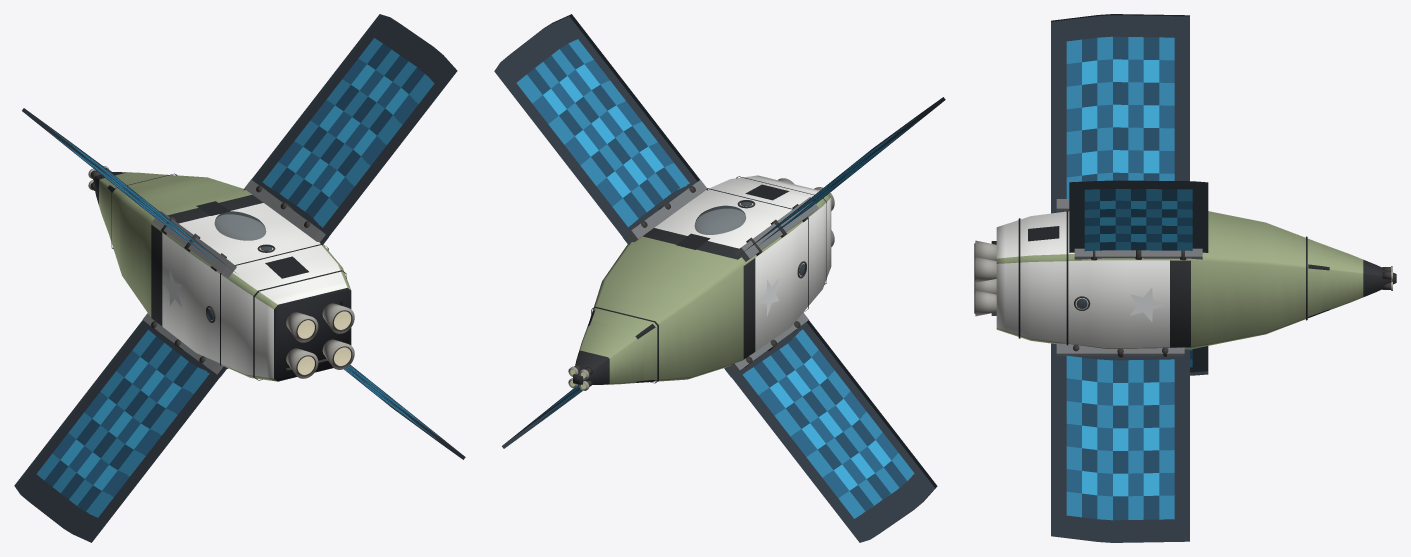
The model's file is Ship_Crosspanel_11.glb.
The picture shows the model from 3 angles, left to right: view 1: azimuth 30°, elevation 25°; view 2: azimuth 150°, elevation 25°; view 3: azimuth 270°, elevation 25°; orthographic projection. The views are drawn at different scales.
Parts seen in each view (by area): view 1: Fuselage_SquareBody, SolarPanelWing_TopRightRidge_RectangularPhotovoltaicGrid, SolarPanelWing_LowerLeftRidge_RectangularPhotovoltaicGrid, SolarPanelWing_TopLeftRidge_RectangularPhotovoltaicGrid, Canopy_DorsalLowSquareBubble, SolarPanelWing_TopLeftRidge_RootHingeClamp, SolarPanelWing_LowerRightRidge_RectangularPhotovoltaicGrid, SolarPanelWing_TopRightRidge_RootHingeClamp, EngineEmitter, Nose_SquareTaperedForwardSection, SolarPanelWing_LowerLeftRidge_RootHingeClamp, HullAccessPanel_TopAft; view 2: Fuselage_SquareBody, SolarPanelWing_TopRightRidge_RectangularPhotovoltaicGrid, SolarPanelWing_LowerLeftRidge_RectangularPhotovoltaicGrid, Nose_SquareTaperedForwardSection, SolarPanelWing_TopLeftRidge_RectangularPhotovoltaicGrid, Canopy_DorsalLowSquareBubble, SolarPanelWing_TopLeftRidge_RootHingeClamp, SolarPanelWing_TopRightRidge_RootHingeClamp, SolarPanelWing_LowerRightRidge_RectangularPhotovoltaicGrid, SolarPanelWing_LowerLeftRidge_RootHingeClamp; view 3: Fuselage_SquareBody, SolarPanelWing_LowerRightRidge_RectangularPhotovoltaicGrid, SolarPanelWing_TopLeftRidge_RectangularPhotovoltaicGrid, SolarPanelWing_TopRightRidge_RectangularPhotovoltaicGrid, Nose_SquareTaperedForwardSection, SolarPanelWing_LowerRightRidge_RootHingeClamp, SolarPanelWing_TopRightRidge_RootHingeClamp, SolarPanelWing_LowerLeftRidge_RectangularPhotovoltaicGrid, HullFlatSideDecal_Primary_StarboardFlatSide_Star_Star_WhiteF.
Boxes of the visible parts, box(x1,y1,x2,y2) form: Fuselage_SquareBody: box(109, 174, 351, 381); SolarPanelWing_TopRightRidge_RectangularPhotovoltaicGrid: box(243, 14, 457, 245); SolarPanelWing_LowerLeftRidge_RectangularPhotovoltaicGrid: box(14, 320, 226, 542); SolarPanelWing_TopLeftRidge_RectangularPhotovoltaicGrid: box(22, 108, 235, 272); Canopy_DorsalLowSquareBubble: box(214, 211, 266, 240); SolarPanelWing_TopLeftRidge_RootHingeClamp: box(152, 211, 236, 277); SolarPanelWing_LowerRightRidge_RectangularPhotovoltaicGrid: box(344, 365, 465, 459); SolarPanelWing_TopRightRidge_RootHingeClamp: box(244, 179, 328, 244); EngineEmitter: box(297, 311, 351, 374); Nose_SquareTaperedForwardSection: box(93, 172, 159, 233); SolarPanelWing_LowerLeftRidge_RootHingeClamp: box(142, 313, 226, 376); HullAccessPanel_TopAft: box(265, 256, 308, 278); Fuselage_SquareBody: box(589, 175, 831, 382); SolarPanelWing_TopRightRidge_RectangularPhotovoltaicGrid: box(494, 14, 708, 245); SolarPanelWing_LowerLeftRidge_RectangularPhotovoltaicGrid: box(724, 320, 937, 542); Nose_SquareTaperedForwardSection: box(573, 320, 643, 384); SolarPanelWing_TopLeftRidge_RectangularPhotovoltaicGrid: box(738, 97, 945, 256); Canopy_DorsalLowSquareBubble: box(694, 205, 745, 234); SolarPanelWing_TopLeftRidge_RootHingeClamp: box(734, 197, 818, 261); SolarPanelWing_TopRightRidge_RootHingeClamp: box(623, 180, 707, 243); SolarPanelWing_LowerRightRidge_RectangularPhotovoltaicGrid: box(502, 384, 582, 448); SolarPanelWing_LowerLeftRidge_RootHingeClamp: box(724, 312, 808, 377); Fuselage_SquareBody: box(996, 211, 1322, 349); SolarPanelWing_LowerRightRidge_RectangularPhotovoltaicGrid: box(1051, 343, 1189, 542); SolarPanelWing_TopLeftRidge_RectangularPhotovoltaicGrid: box(1051, 14, 1189, 213); SolarPanelWing_TopRightRidge_RectangularPhotovoltaicGrid: box(1069, 180, 1208, 252); Nose_SquareTaperedForwardSection: box(1322, 244, 1396, 312); SolarPanelWing_LowerRightRidge_RootHingeClamp: box(1056, 343, 1184, 356); SolarPanelWing_TopRightRidge_RootHingeClamp: box(1074, 248, 1202, 259); SolarPanelWing_LowerLeftRidge_RectangularPhotovoltaicGrid: box(1190, 346, 1208, 375); HullFlatSideDecal_Primary_StarboardFlatSide_Star_Star_WhiteF: box(1130, 288, 1165, 321).
Size of the model in its own units: 6.27 by 6.27 by 6.62.
